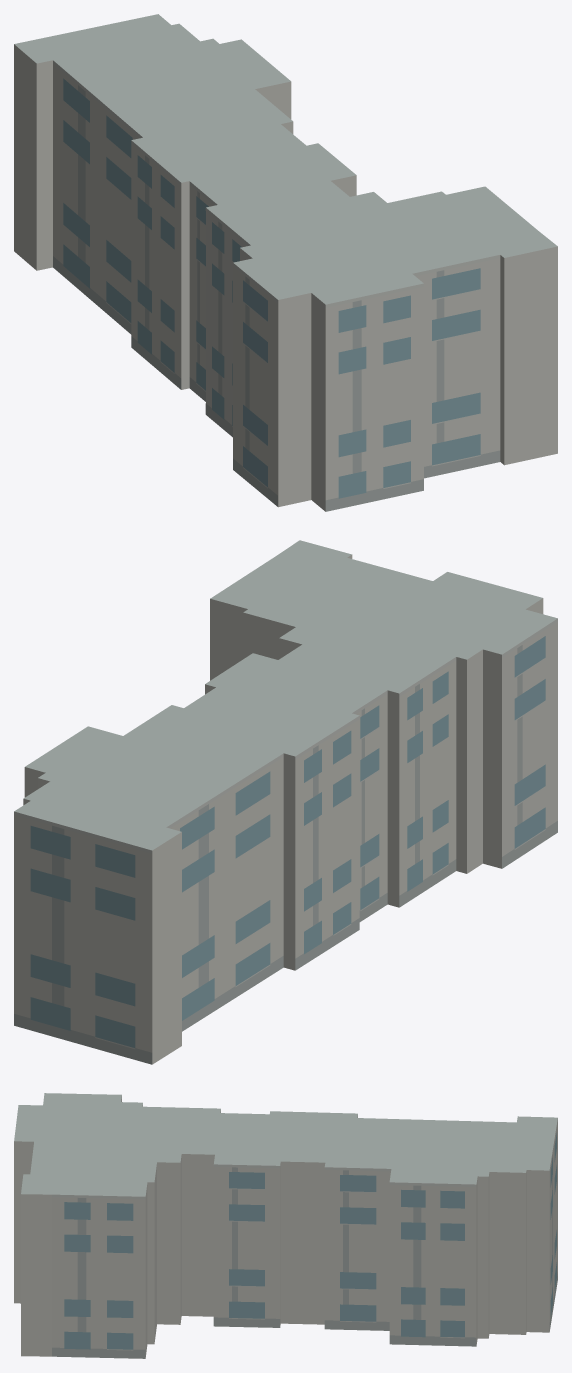
Rendered from residential-1f44bb93-1466-4f33-b474-be1a115f9e2c.glb.
3 views of the same model, one above another, from view 1: azimuth 30°, elevation 25°; view 2: azimuth 150°, elevation 25°; view 3: azimuth 270°, elevation 25° (orthographic). The views are drawn at different scales.
Visible parts, largest first — view 1: residential-1f44bb93-1466-4f33-b474-be1a115f9e2c.tmp; view 2: residential-1f44bb93-1466-4f33-b474-be1a115f9e2c.tmp; view 3: residential-1f44bb93-1466-4f33-b474-be1a115f9e2c.tmp.
Boxes of the visible parts, x1,y1,x2,y2 form: residential-1f44bb93-1466-4f33-b474-be1a115f9e2c.tmp: (14, 14, 557, 511); residential-1f44bb93-1466-4f33-b474-be1a115f9e2c.tmp: (14, 540, 557, 1064); residential-1f44bb93-1466-4f33-b474-be1a115f9e2c.tmp: (14, 1093, 557, 1358).
Size of the model in its own units: 20.94 by 15.25 by 46.4.
